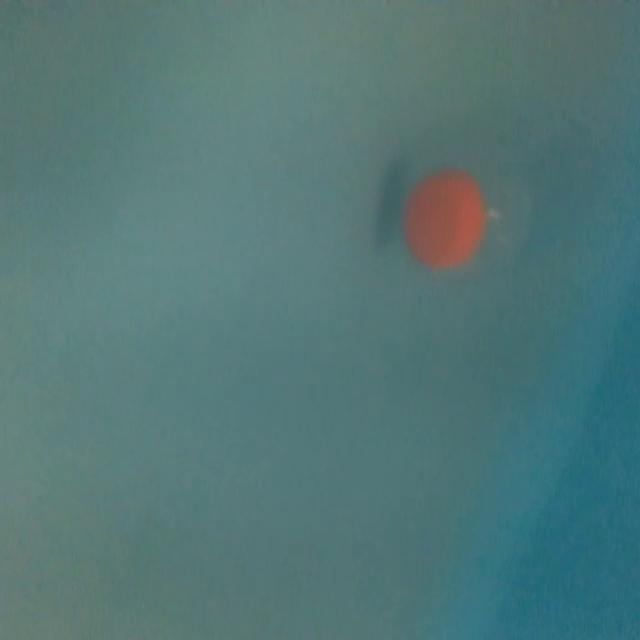plastic bottle: (393, 140, 622, 297)
